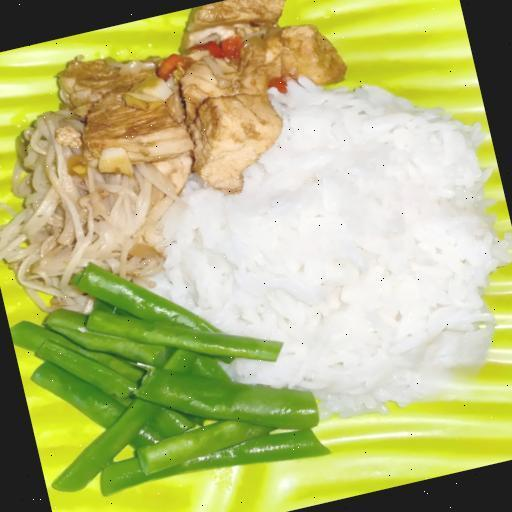buncis_rebus: (0, 226, 302, 512)
nasi_putih: (247, 80, 512, 437)
